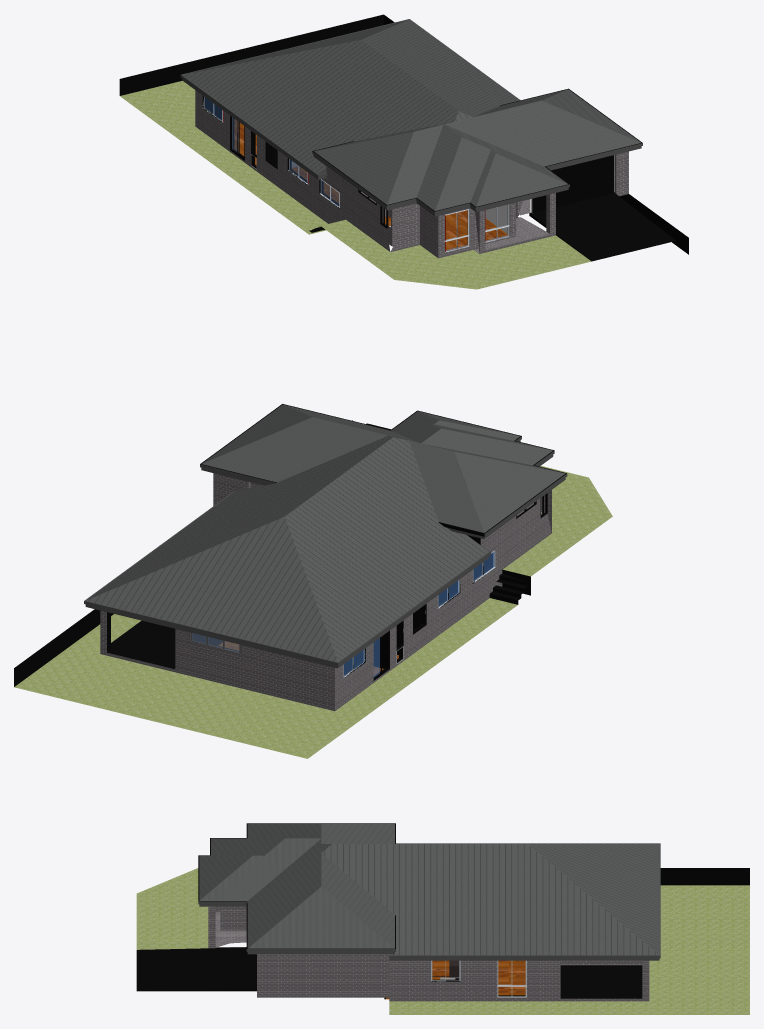
File: HouseTest.glb
3 views of the same model, one above another, from view 1: azimuth 30°, elevation 25°; view 2: azimuth 150°, elevation 25°; view 3: azimuth 270°, elevation 25° (orthographic). The views are drawn at different scales.
Parts seen in each view (by area): view 1: image, Doors and Entries, Window (×2); view 2: image, Doors and Entries, Window; view 3: image, Window.
Part boxes in pixels (left/top/right/bottom): image: left=119, top=14, right=688, bottom=289; Doors and Entries: left=230, top=116, right=616, bottom=228; Window (×2): left=202, top=96, right=510, bottom=252; image: left=14, top=404, right=612, bottom=758; Doors and Entries: left=189, top=493, right=547, bottom=680; Window: left=344, top=552, right=494, bottom=675; image: left=136, top=823, right=749, bottom=1014; Window: left=431, top=960, right=526, bottom=997.
Bounding box in the file's own units: 21.5 × 5.71 × 36.
61 materials, 25 textured.
